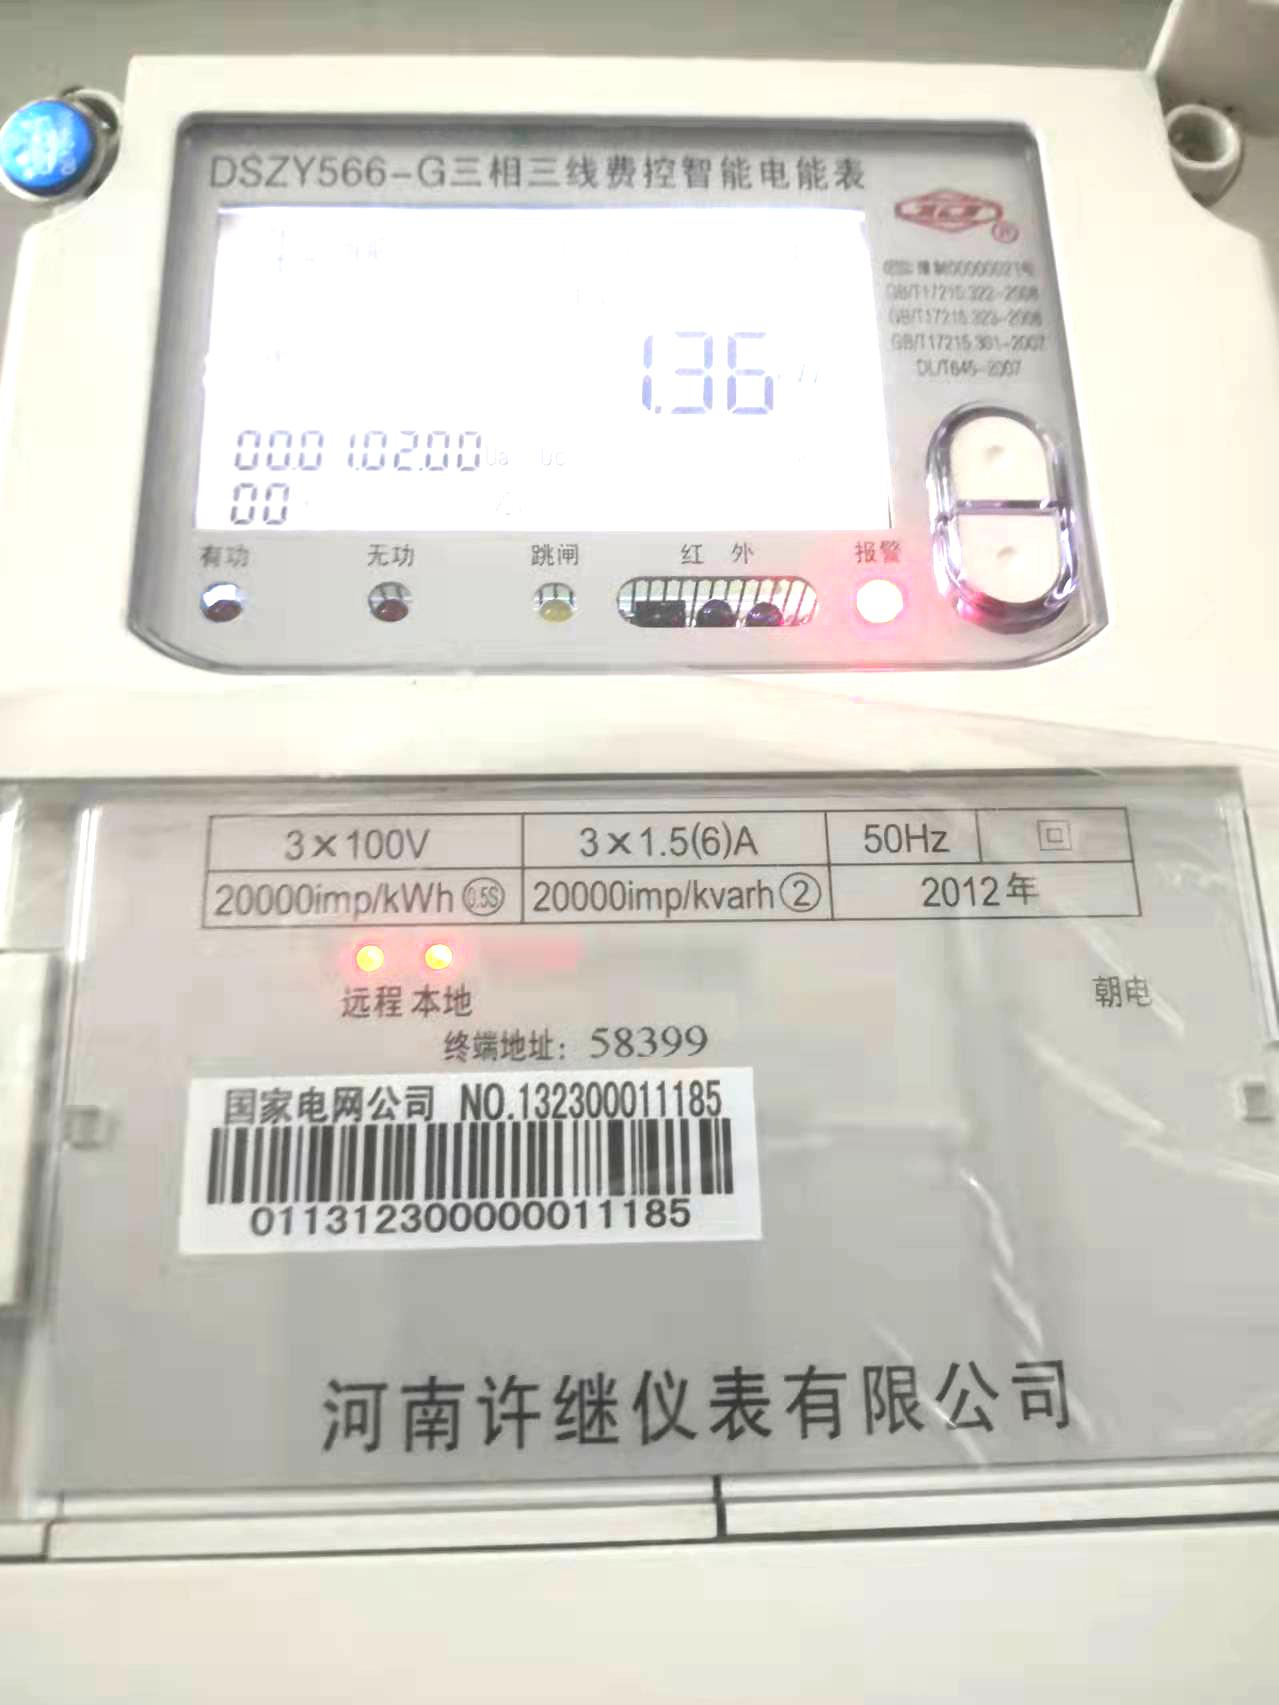digital: (1, 60, 1279, 1530)
